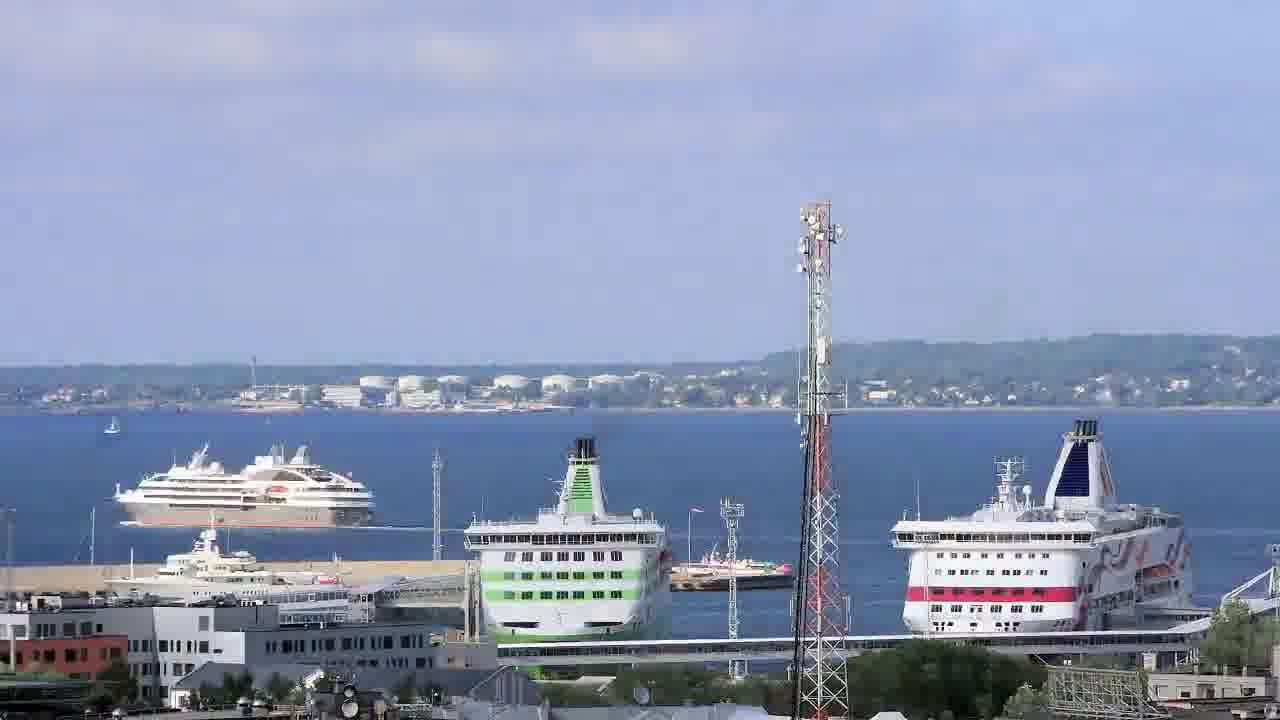type-1: (689, 536, 803, 594)
type-2: (91, 401, 134, 446)
type-3: (868, 415, 1225, 638), (436, 434, 694, 670), (101, 447, 389, 543), (84, 511, 353, 609)
